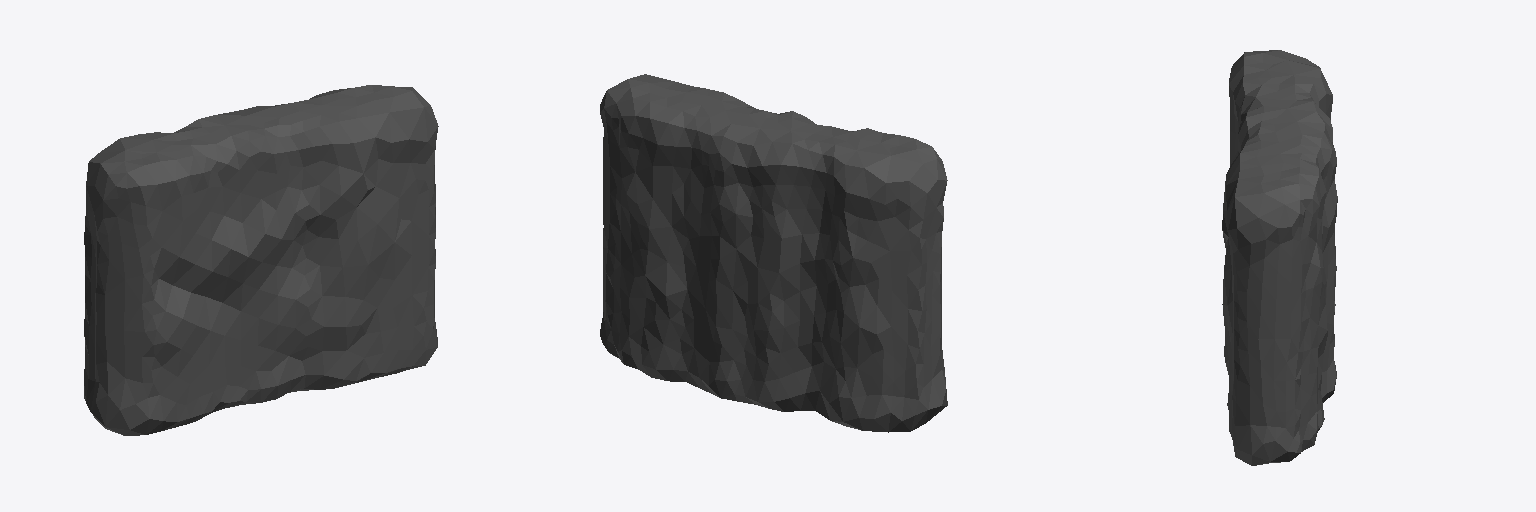
File: CaveWalls1_C.obj
The picture shows the model from 3 angles: view 1: azimuth 30°, elevation 25°; view 2: azimuth 150°, elevation 25°; view 3: azimuth 270°, elevation 25°; orthographic projection.
Parts seen in each view (by area): view 1: CaveWalls1C; view 2: CaveWalls1C; view 3: CaveWalls1C.
Part boxes in pixels (left/top/right/bottom): CaveWalls1C: left=84, top=85, right=438, bottom=435; CaveWalls1C: left=600, top=74, right=947, bottom=432; CaveWalls1C: left=1222, top=50, right=1337, bottom=465.
Bounding box in the file's own units: 43.44 × 33.17 × 12.82.